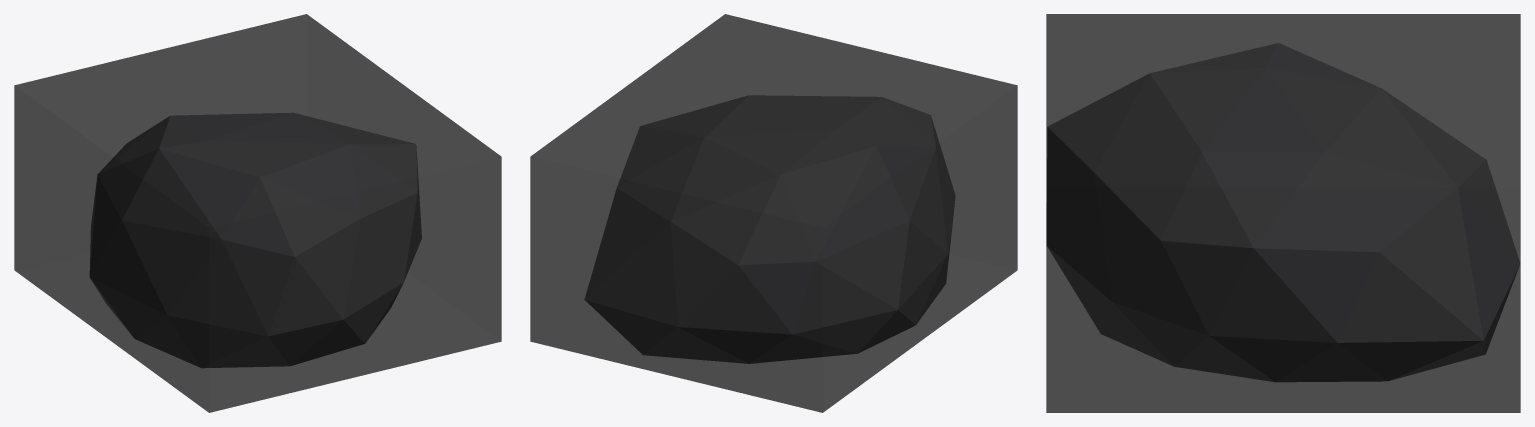
The model's file is Stone_5.fbx.
3 views of the same model, side by side, from view 1: azimuth 30°, elevation 25°; view 2: azimuth 150°, elevation 25°; view 3: azimuth 270°, elevation 25° (orthographic). The views are drawn at different scales.
Visible parts, largest first — view 1: Stone_5_BBox, Stone_5; view 2: Stone_5_BBox, Stone_5; view 3: Stone_5_BBox, Stone_5.
Boxes of the visible parts, x1=… form: Stone_5_BBox: x1=14, y1=14, x2=501, y2=412; Stone_5: x1=89, y1=112, x2=421, y2=368; Stone_5_BBox: x1=530, y1=14, x2=1017, y2=412; Stone_5: x1=584, y1=95, x2=955, y2=363; Stone_5_BBox: x1=1046, y1=14, x2=1520, y2=412; Stone_5: x1=1046, y1=43, x2=1520, y2=382.
Bounding box in the file's own units: 2.85 × 1.73 × 3.29.
2 materials, 1 textured.
